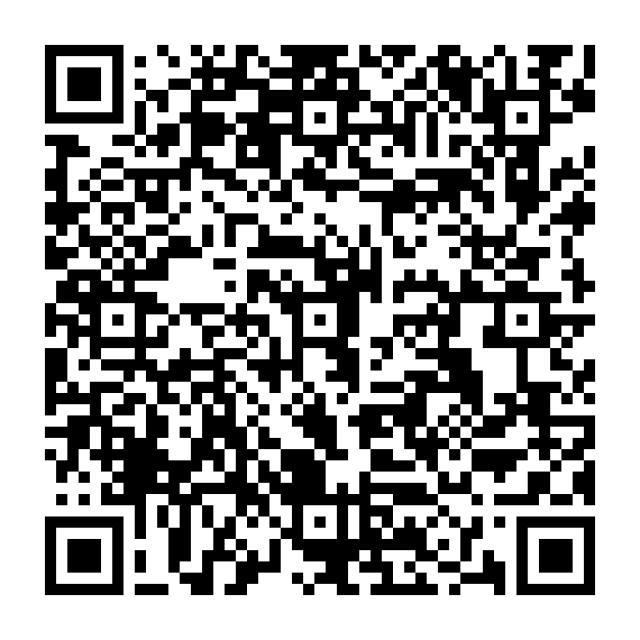qr-code: (30, 35, 606, 609)
